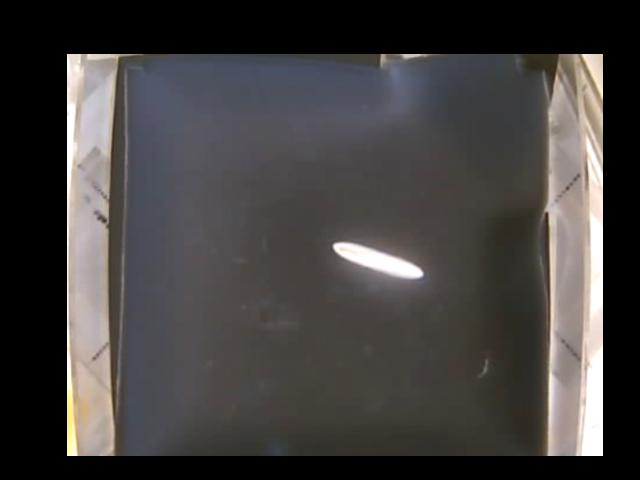Pebble: (329, 241, 426, 280)
